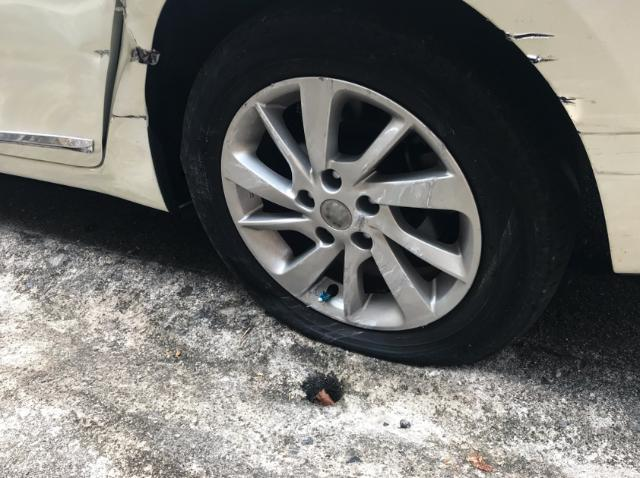Bumper: (505, 7, 640, 197)
Fender: (110, 6, 151, 159)
